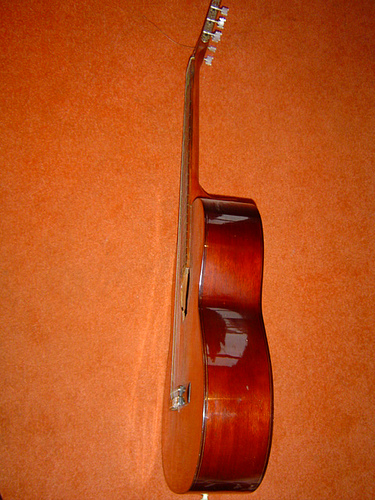guitar: (157, 1, 274, 497)
